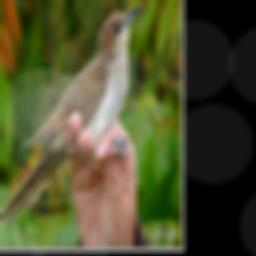Cuckoo: (0, 1, 141, 227)
